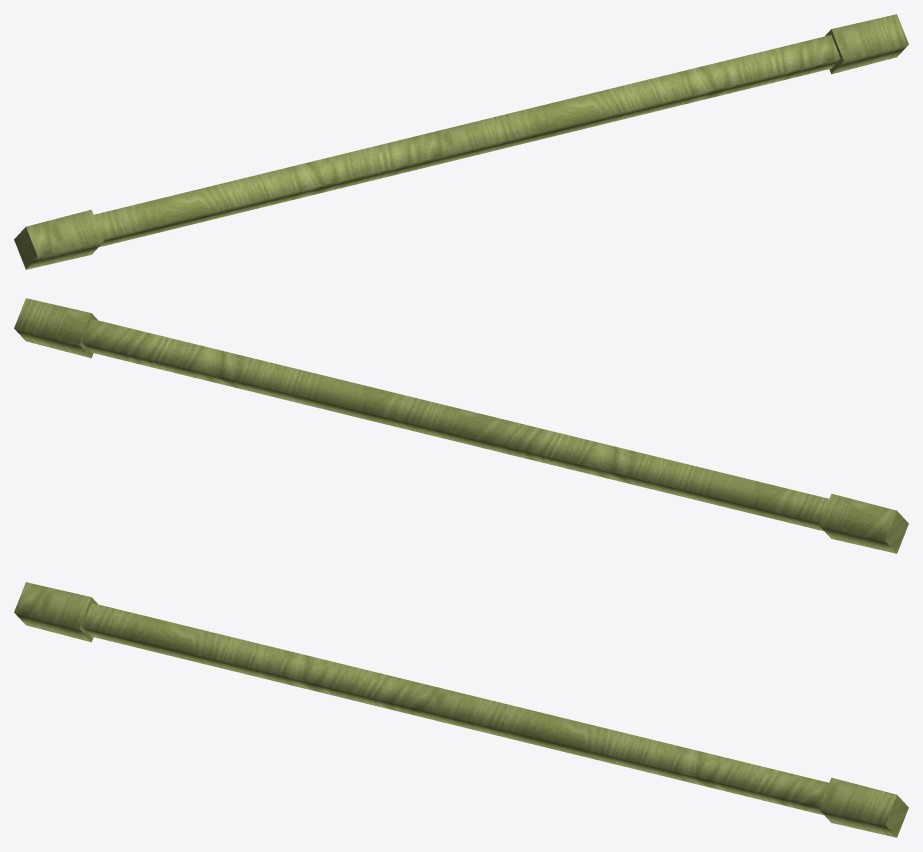
Rendered from Green stick.FBX.
3 renders of one model, top to bottom at view 1: azimuth 30°, elevation 25°; view 2: azimuth 150°, elevation 25°; view 3: azimuth 330°, elevation 25°, orthographic.
Parts seen in each view (by area): view 1: Cylinder001; view 2: Cylinder001; view 3: Cylinder001.
Boxes of the visible parts, <box> form: Cylinder001: <box>14,14,908,269</box>; Cylinder001: <box>14,298,908,553</box>; Cylinder001: <box>14,582,908,837</box>.
Bounding box in the file's own units: 92.86 × 4.61 × 4.61.
1 material, 1 textured.
